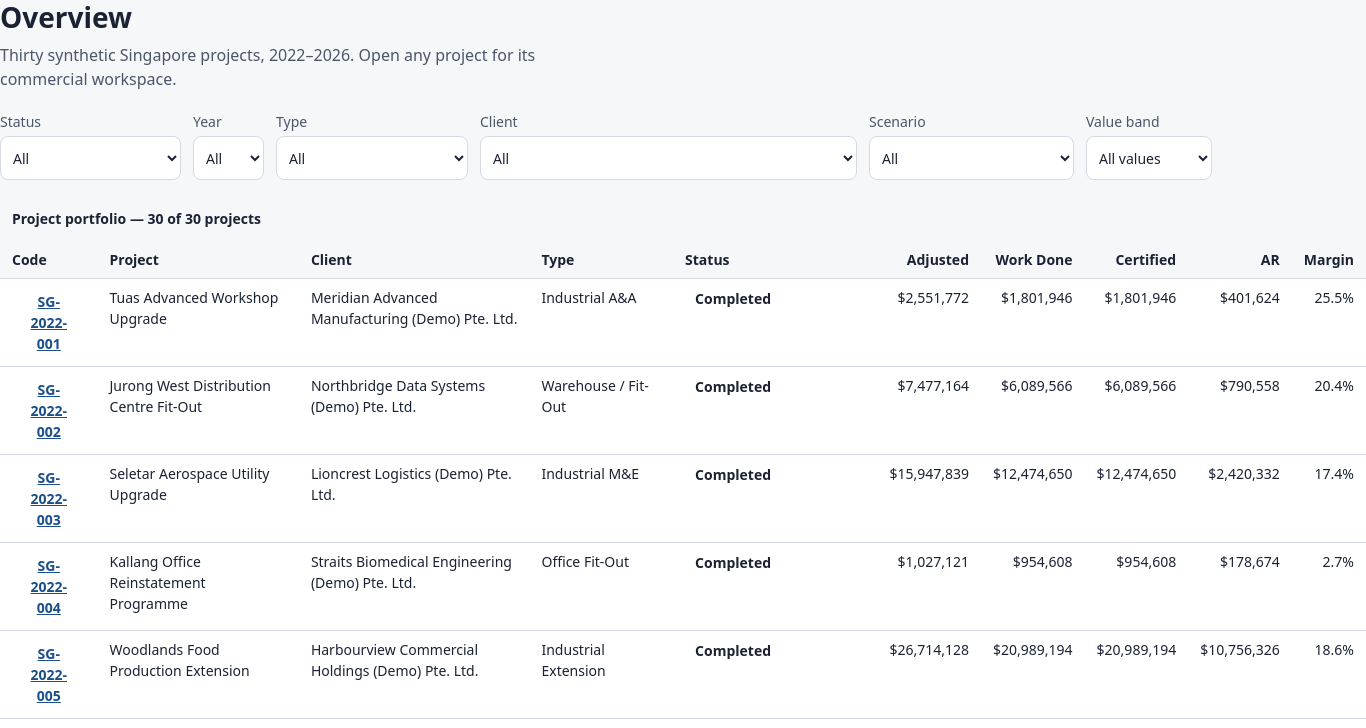
Scenario: PortfolioView (TASK-004) › filters by scenario
Select "negative-claim" in the dropdown labelled "Scenario" at (972, 158), box [869,136,1074,180]
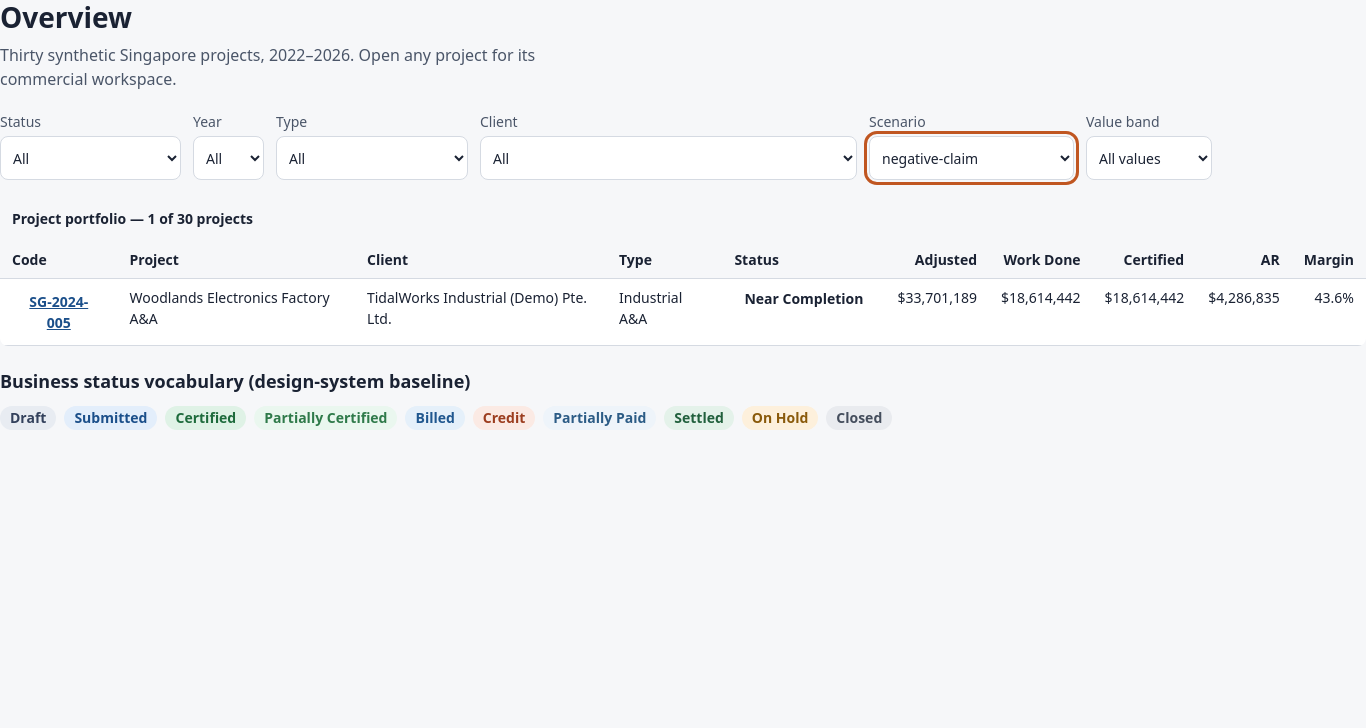
Expected: the text "Project portfolio — 1 of 30 projects" is shown, [12,209,253,228]
